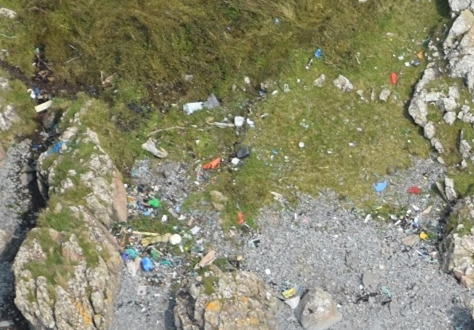scattered_barrel: (174, 82, 255, 173), (360, 166, 443, 242), (387, 40, 427, 91)
together_barrel: (118, 179, 217, 277)
white_in_green: (16, 76, 71, 132), (267, 271, 327, 320), (300, 36, 340, 70)
